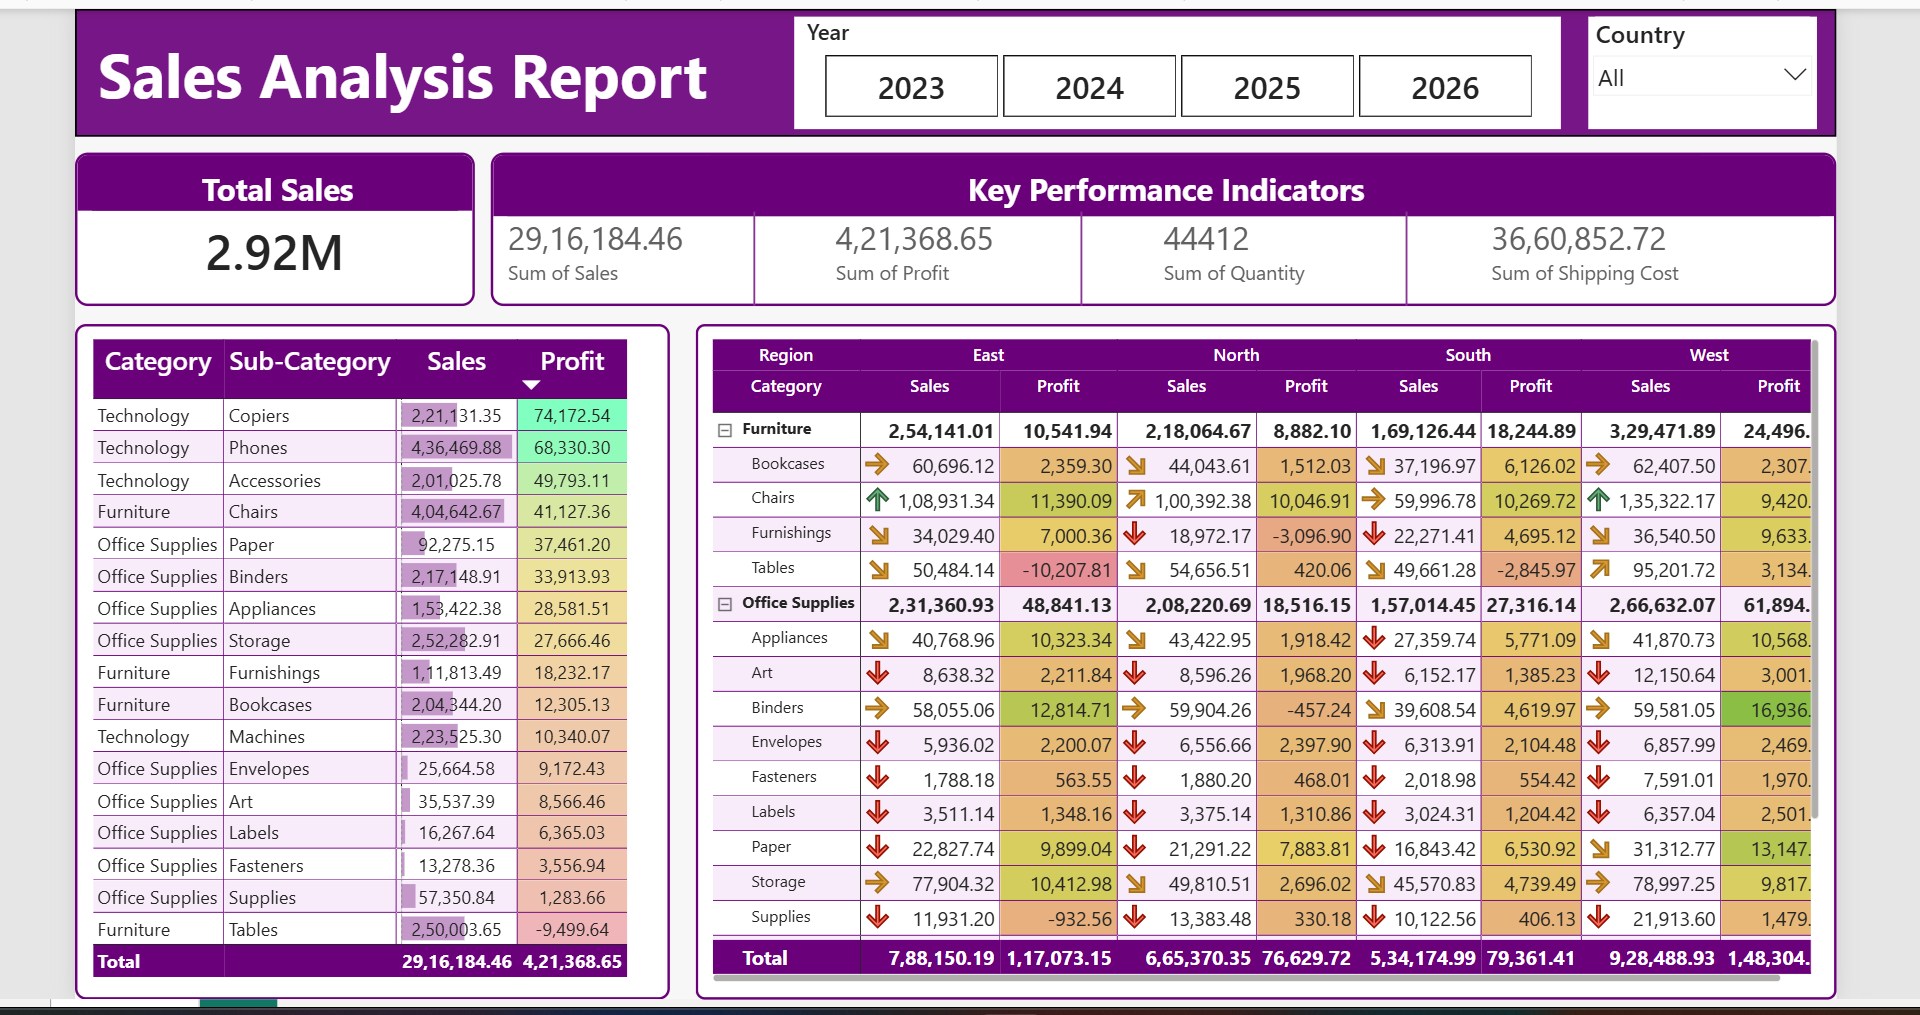

The page's visual inventory and layout, read from the dashboard file:
{"tool":"powerbi","page":{"name":"Page 1","canvas":[1920,1080],"ordinal":0},"visuals":[{"type":"shape","box":[0,0,1920.8,139.7],"z":0},{"type":"advancedSlicerVisual","fields":{"Values":["India_Data (2).Order Date.Variation.Date Hierarchy.Year"]},"box":[784.2,8.6,835.8,122.5],"z":1000},{"type":"slicer","fields":{"Values":["India_Data (2).Country"]},"box":[1650.1,8.6,249.2,122.5],"z":2000},{"type":"card","title":"Total Sales","fields":{"Values":["Sum(India_Data (2).Sales)"]},"box":[0,156.8,436.2,167.6],"z":3000},{"type":"multiRowCard","title":"Key Performance Indicators","fields":{"Values":["Sum(India_Data (2).Sales)","Sum(India_Data (2).Profit)","Sum(India_Data (2).Quantity)","Sum(India_Data (2).Shipping Cost)"]},"box":[453.4,156.8,1467.5,167.6],"z":4000},{"type":"tableEx","fields":{"Values":["India_Data (2).Category","India_Data (2).Sub-Category","Sum(India_Data (2).Sales)","Sum(India_Data (2).Profit)"]},"box":[0,343.8,648.9,737],"z":5000},{"type":"pivotTable","fields":{"Columns":["India_Data (2).Region"],"Rows":["India_Data (2).Category","India_Data (2).Sub-Category"],"Values":["Sum(India_Data (2).Sales)","Sum(India_Data (2).Profit)"]},"box":[676.8,343.8,1244,737],"z":6000},{"type":"shape","box":[649,221.9,183.7,102.6],"z":6001},{"type":"shape","box":[1004.5,221.9,183.7,102.6],"z":6003},{"type":"shape","box":[1360,221.9,183.7,102.6],"z":6004}]}

Visuals, with their boxes in screenshot pixels (x1, y1, x2, y2):
shape: locate(65, 0, 1845, 129)
advancedSlicerVisual - India_Data (2).Order Date.Variation.Date Hierarchy.Year: locate(792, 8, 1566, 122)
slicer - India_Data (2).Country: locate(1594, 8, 1825, 122)
"Total Sales" card: locate(65, 145, 469, 301)
"Key Performance Indicators" multiRowCard: locate(485, 145, 1845, 301)
tableEx - India_Data (2).Category x India_Data (2).Sub-Category: locate(65, 319, 666, 1002)
pivotTable - India_Data (2).Region x India_Data (2).Category: locate(692, 319, 1845, 1002)
shape: locate(667, 206, 837, 301)
shape: locate(996, 206, 1166, 301)
shape: locate(1325, 206, 1496, 301)
